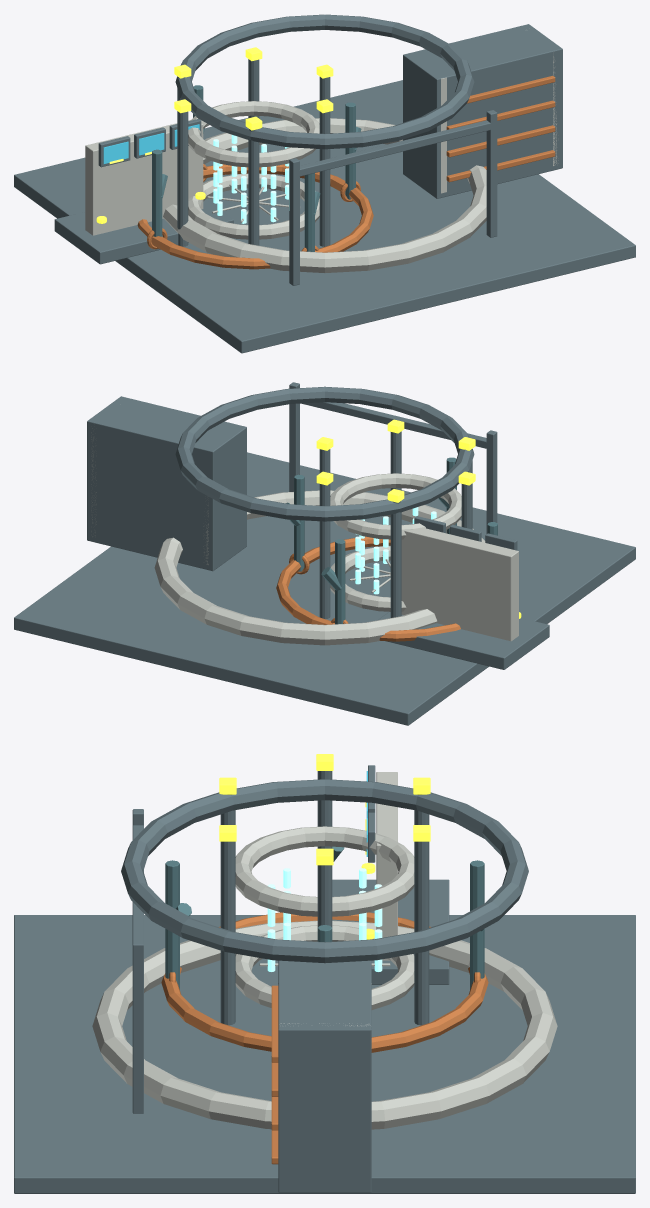
File: micro_reactor_complex_d1.glb
3 views of the same model, one above another, from view 1: azimuth 30°, elevation 25°; view 2: azimuth 150°, elevation 25°; view 3: azimuth 270°, elevation 25° (orthographic). The views are drawn at different scales.
Parts seen in each view (by area): view 1: Reactor deck.001, Exchanger frame.001, Upper service ring.001, Open shield ring.001, Open instrument rack.001, Core vessel upper.001, Manifold ring.001, Control skid base.001, Core vessel lower.001, Open safety gantry.001, Control rod guide.009, Gantry upright.003 (+12 smaller); view 2: Reactor deck.001, Exchanger frame.001, Open instrument rack.001, Upper service ring.001, Open shield ring.001, Control skid base.001, Core vessel upper.001, Manifold ring.001, Open safety gantry.001, Control rod guide.007, Core vessel lower.001, Control rod guide.008 (+6 smaller); view 3: Reactor deck.001, Exchanger frame.001, Upper service ring.001, Open shield ring.001, Core vessel upper.001, Manifold ring.001, Core vessel lower.001, Control skid base.001, Control rod guide.007, Control rod guide.011, Gantry upright.003, Open instrument rack.001 (+5 smaller).
Boxes of the visible parts, x1,y1,x2,y2 form: Reactor deck.001: [14, 80, 635, 353]; Exchanger frame.001: [403, 24, 562, 198]; Upper service ring.001: [175, 14, 474, 149]; Open shield ring.001: [163, 118, 486, 272]; Open instrument rack.001: [85, 120, 203, 235]; Core vessel upper.001: [188, 101, 319, 167]; Manifold ring.001: [137, 164, 373, 269]; Control skid base.001: [54, 199, 233, 264]; Core vessel lower.001: [188, 173, 319, 239]; Open safety gantry.001: [297, 120, 493, 176]; Control rod guide.009: [177, 111, 188, 246]; Gantry upright.003: [486, 110, 497, 237]; Reactor deck.001: [14, 452, 635, 725]; Exchanger frame.001: [87, 396, 246, 571]; Open instrument rack.001: [401, 524, 518, 641]; Upper service ring.001: [175, 386, 474, 521]; Open shield ring.001: [154, 490, 485, 645]; Control skid base.001: [378, 611, 549, 669]; Core vessel upper.001: [330, 473, 461, 539]; Manifold ring.001: [276, 536, 460, 641]; Open safety gantry.001: [301, 402, 489, 448]; Control rod guide.007: [319, 484, 330, 618]; Core vessel lower.001: [330, 546, 406, 611]; Control rod guide.008: [390, 501, 401, 617]; Reactor deck.001: [14, 915, 635, 1193]; Exchanger frame.001: [278, 960, 371, 1192]; Upper service ring.001: [121, 779, 528, 963]; Open shield ring.001: [92, 920, 557, 1129]; Core vessel upper.001: [235, 826, 414, 916]; Manifold ring.001: [161, 912, 488, 1052]; Core vessel lower.001: [235, 925, 414, 1009]; Control skid base.001: [332, 879, 449, 984]; Control rod guide.007: [414, 841, 429, 1025]; Control rod guide.011: [220, 841, 235, 1025]; Gantry upright.003: [132, 940, 143, 1113]; Open instrument rack.001: [376, 772, 397, 960].
Bounding box in the file's own units: 11.3 × 3.74 × 10.
